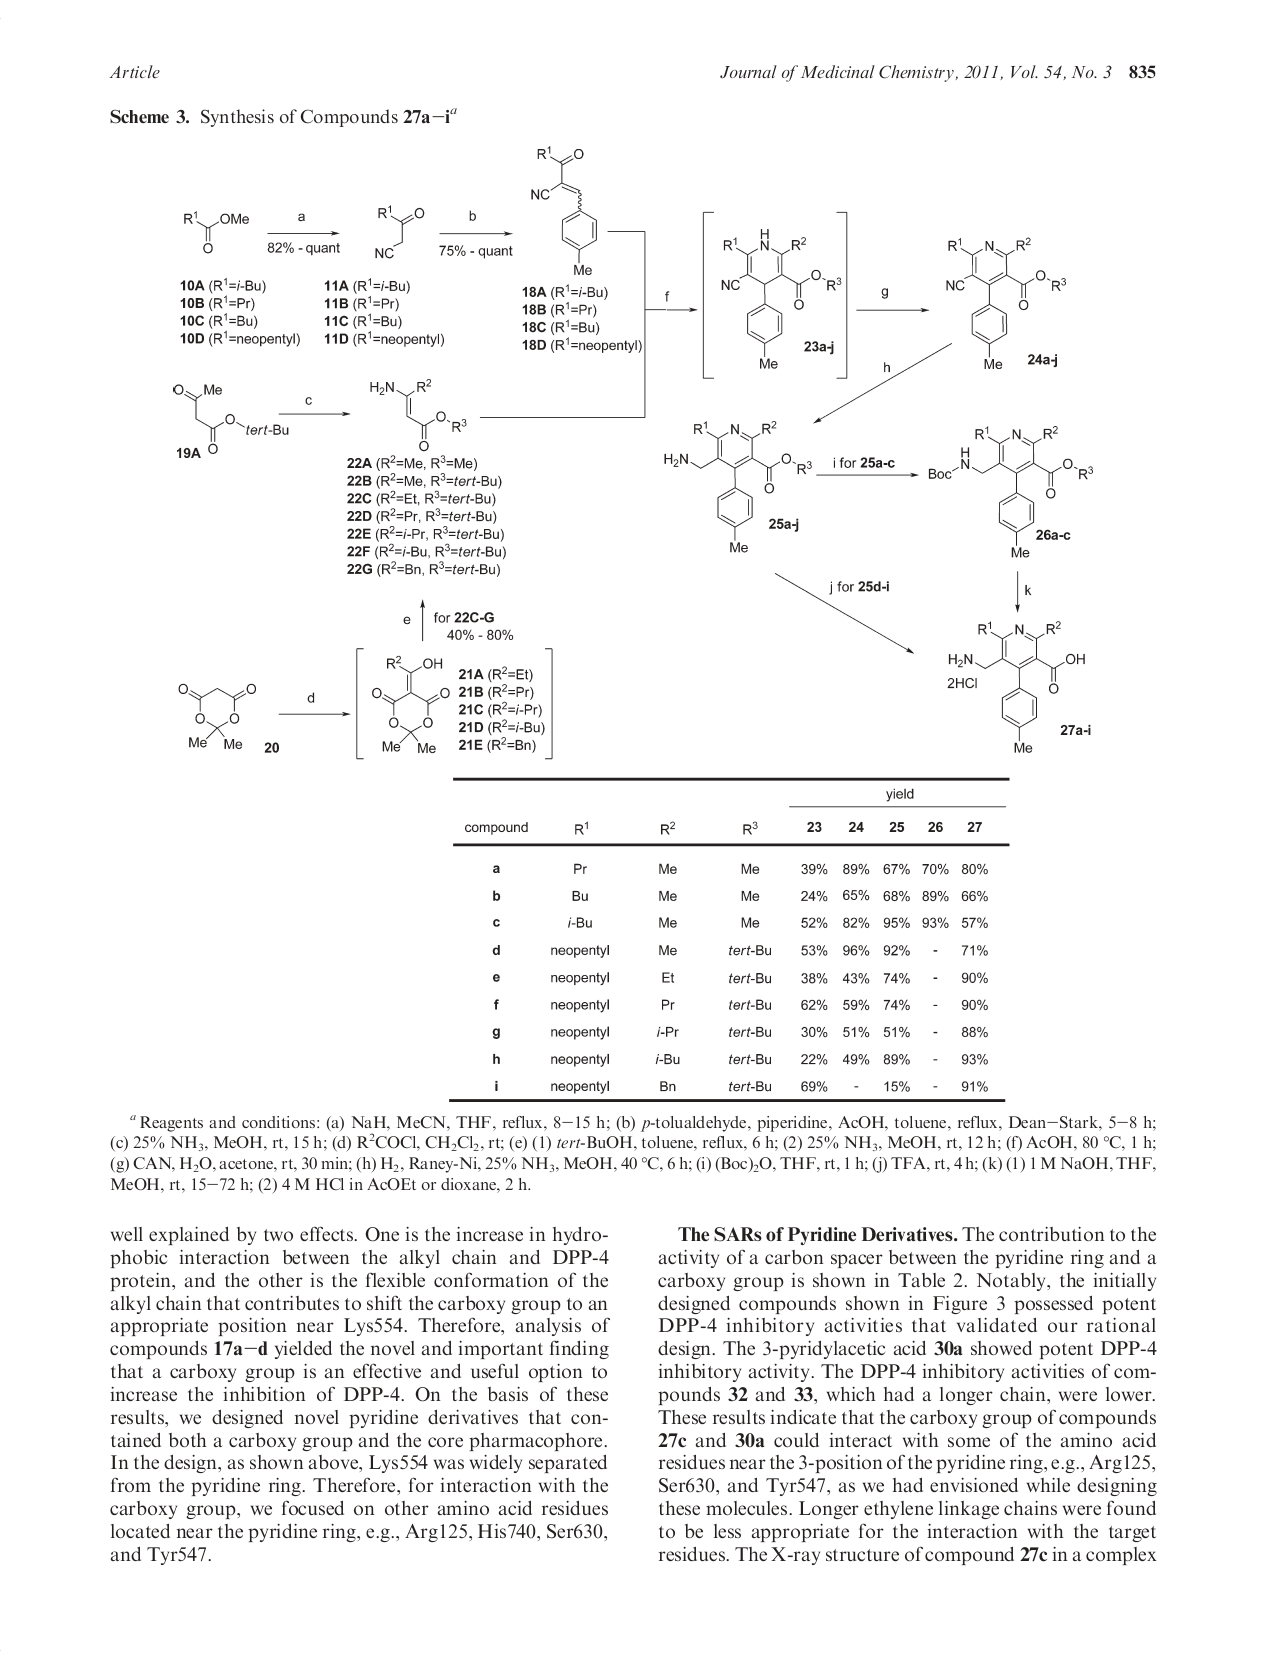exist_molecular: (926, 419, 1094, 561), (662, 419, 817, 556), (946, 618, 1090, 755), (713, 222, 842, 372), (939, 234, 1071, 371), (520, 142, 608, 281), (169, 379, 294, 453), (367, 652, 453, 758), (364, 372, 469, 453), (176, 680, 257, 754), (181, 203, 251, 261), (368, 199, 424, 265)
